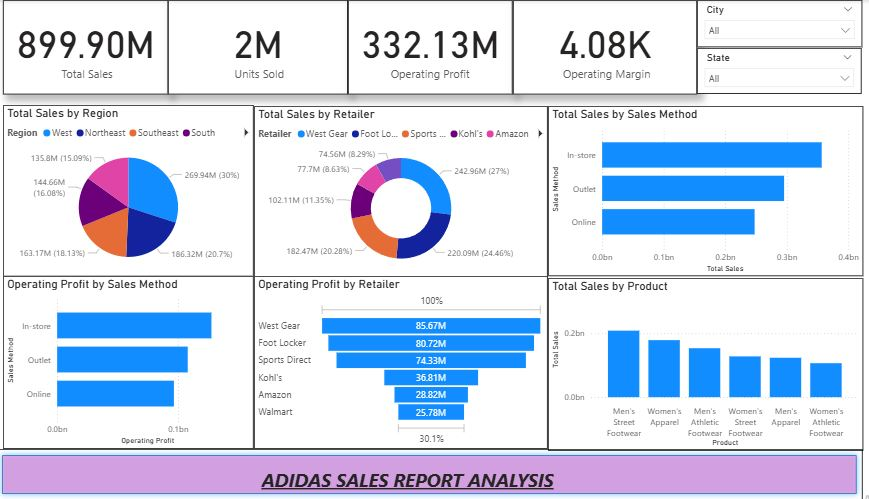

The page's visual inventory and layout, read from the dashboard file:
{"tool":"powerbi","page":{"name":"Page 1","canvas":[1280,720],"ordinal":0},"visuals":[{"type":"card","fields":{"Values":["Sum(Data.Total Sales)"]},"box":[10.5,0,237.8,136.4],"z":0},{"type":"card","fields":{"Values":["Sum(Data.Units Sold)"]},"box":[248.3,0,258.8,136.4],"z":1000},{"type":"card","fields":{"Values":["Sum(Data.Operating Profit)"]},"box":[507.3,0,236.9,136.1],"z":2000},{"type":"card","fields":{"Values":["Sum(Data.Operating Margin)"]},"box":[744.1,0,265.4,136.1],"z":3000},{"type":"slicer","fields":{"Values":["Data.City"]},"box":[1009,0,237.8,68.2],"z":4000},{"type":"pieChart","fields":{"Y":["Sum(Data.Total Sales)"],"Category":["Data.Region"]},"box":[10.1,151.2,361.2,246.9],"z":5000},{"type":"donutChart","fields":{"Y":["Sum(Data.Total Sales)"],"Category":["Data.Retailer"]},"box":[371.2,152.9,423.3,246.9],"z":6000},{"type":"barChart","fields":{"Y":["Sum(Data.Total Sales)"],"Category":["Data.Sales Method"]},"box":[794.5,152.9,453.5,245.2],"z":7000},{"type":"barChart","fields":{"Category":["Data.Sales Method"],"Y":["Sum(Data.Operating Profit)"]},"box":[10.1,398.1,361.2,248.6],"z":8000},{"type":"funnel","fields":{"Category":["Data.Retailer"],"Y":["Sum(Data.Operating Profit)"]},"box":[371.2,398.1,423.3,248.6],"z":9000},{"type":"slicer","fields":{"Values":["Data.State"]},"box":[1009.6,68.9,236.9,65.5],"z":10000},{"type":"lineStackedColumnComboChart","fields":{"Category":["Data.Product"],"Y":["Sum(Data.Total Sales)"]},"box":[794.5,399.8,453.5,248.6],"z":11000},{"type":"shape","box":[0,646.7,1248.2,73.7],"z":12000},{"type":"textbox","box":[378,666.9,665.2,53.8],"z":13000}]}

Visuals, with their boxes in screenshot pixels (x1, y1, x2, y2), scaled from the page's 1280x720 canvas onto the 869x499 screenshot:
card - Sum(Data.Total Sales): l=7, t=0, r=169, b=95
card - Sum(Data.Units Sold): l=169, t=0, r=344, b=95
card - Sum(Data.Operating Profit): l=344, t=0, r=505, b=94
card - Sum(Data.Operating Margin): l=505, t=0, r=685, b=94
slicer - Data.City: l=685, t=0, r=846, b=47
pieChart - Sum(Data.Total Sales) x Data.Region: l=7, t=105, r=252, b=276
donutChart - Sum(Data.Total Sales) x Data.Retailer: l=252, t=106, r=539, b=277
barChart - Sum(Data.Total Sales) x Data.Sales Method: l=539, t=106, r=847, b=276
barChart - Data.Sales Method x Sum(Data.Operating Profit): l=7, t=276, r=252, b=448
funnel - Data.Retailer x Sum(Data.Operating Profit): l=252, t=276, r=539, b=448
slicer - Data.State: l=685, t=48, r=846, b=93
lineStackedColumnComboChart - Data.Product x Sum(Data.Total Sales): l=539, t=277, r=847, b=449
shape: l=0, t=448, r=847, b=498
textbox: l=257, t=462, r=708, b=498
